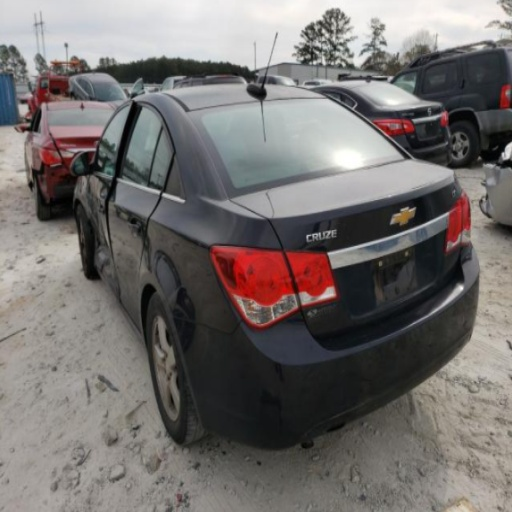dent: (107, 200, 151, 292)
